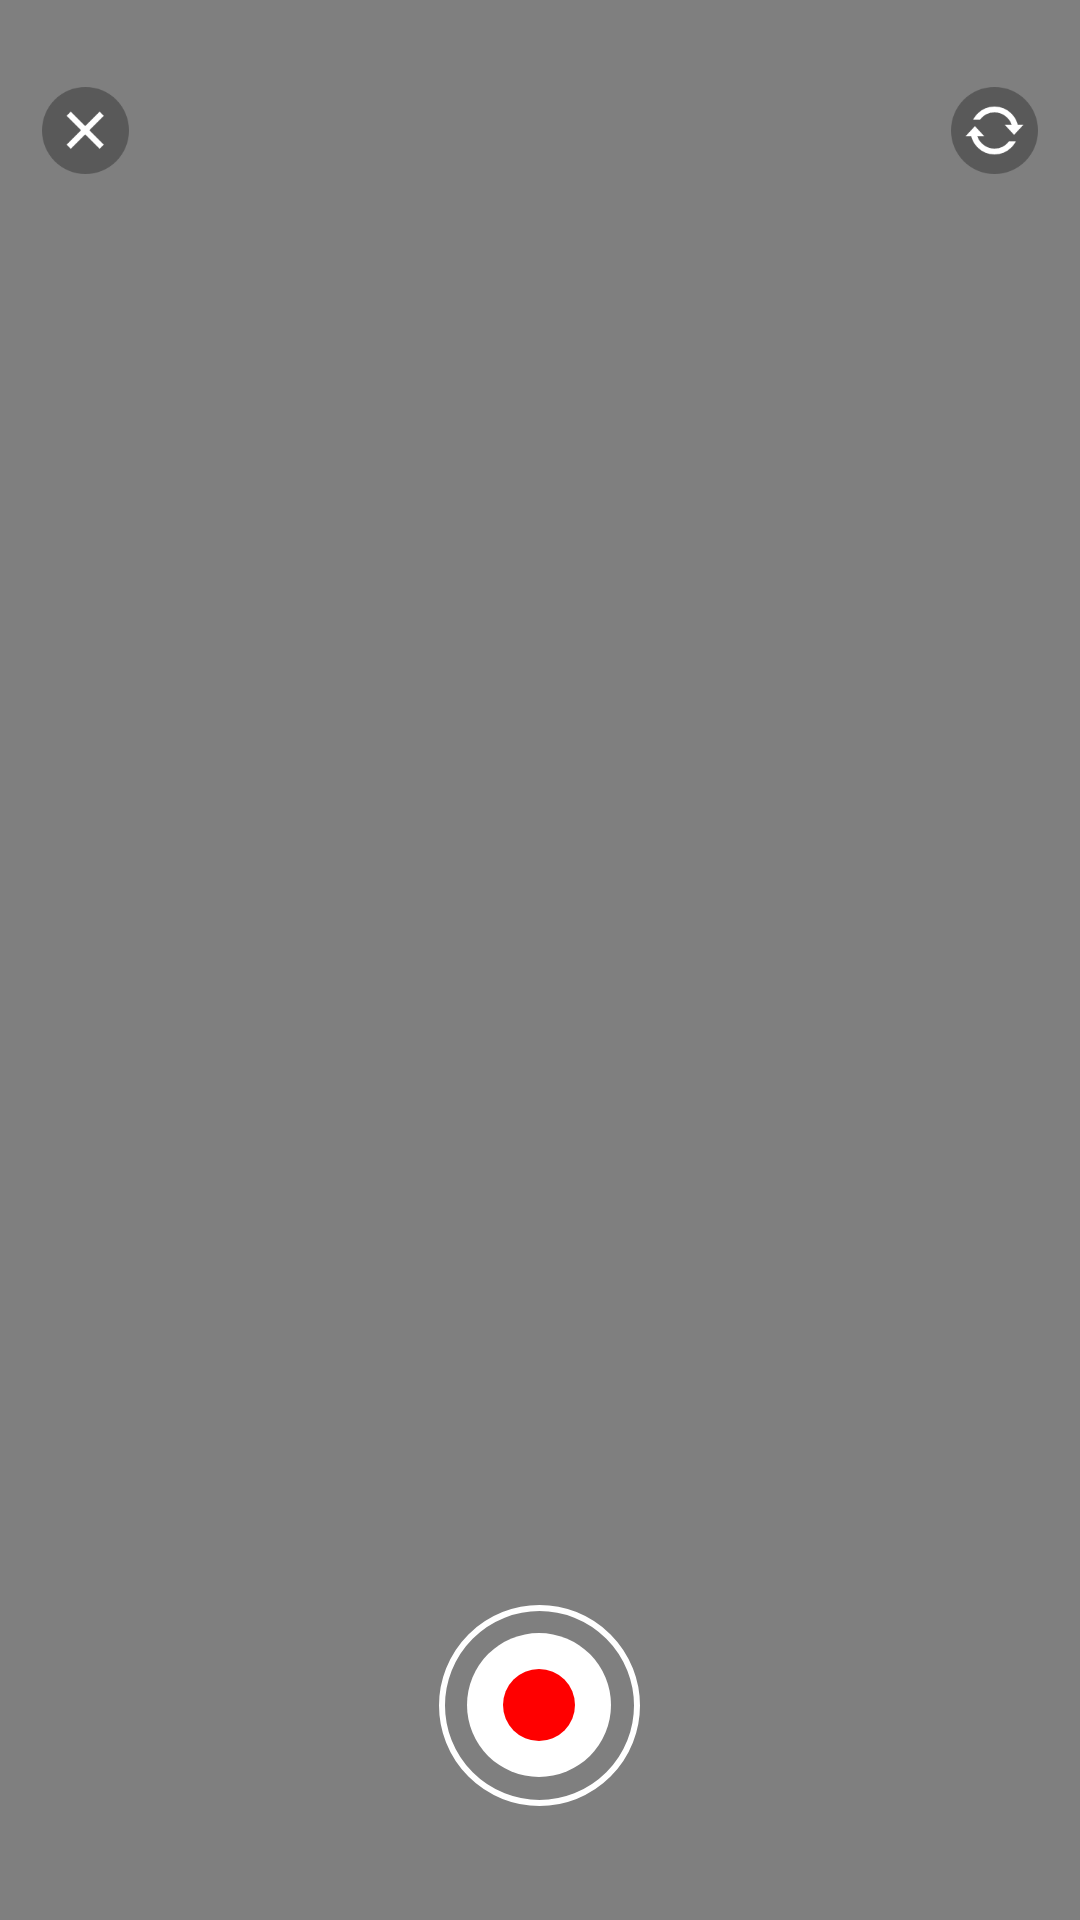

Icon click points for this 1080w x 1920h phone screenshot, format point (x, y):
camera close: point (85, 130)
camera switch: point (994, 130)
